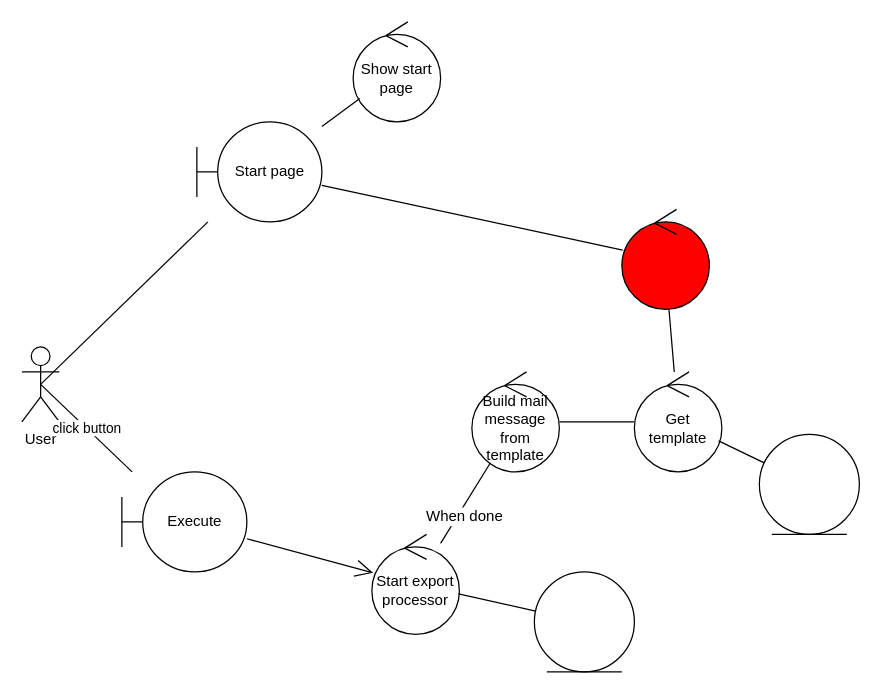
Some shapes in this 881 by 694 pixel diagram are drawn without their labels. The shapes that lost their labels are listed below. From the top down, each one's centre as x and y in pixels, then its label:
At [665,258]: "Mail template error".
At [808,483]: "Storage".
At [583,621]: "Processor".
